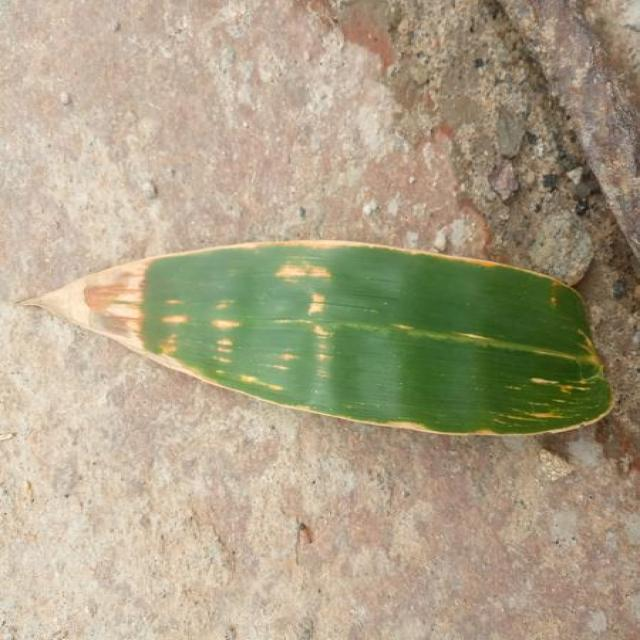Bamboo: (22, 242, 612, 434)
defectedBamboo: (23, 242, 446, 409)
